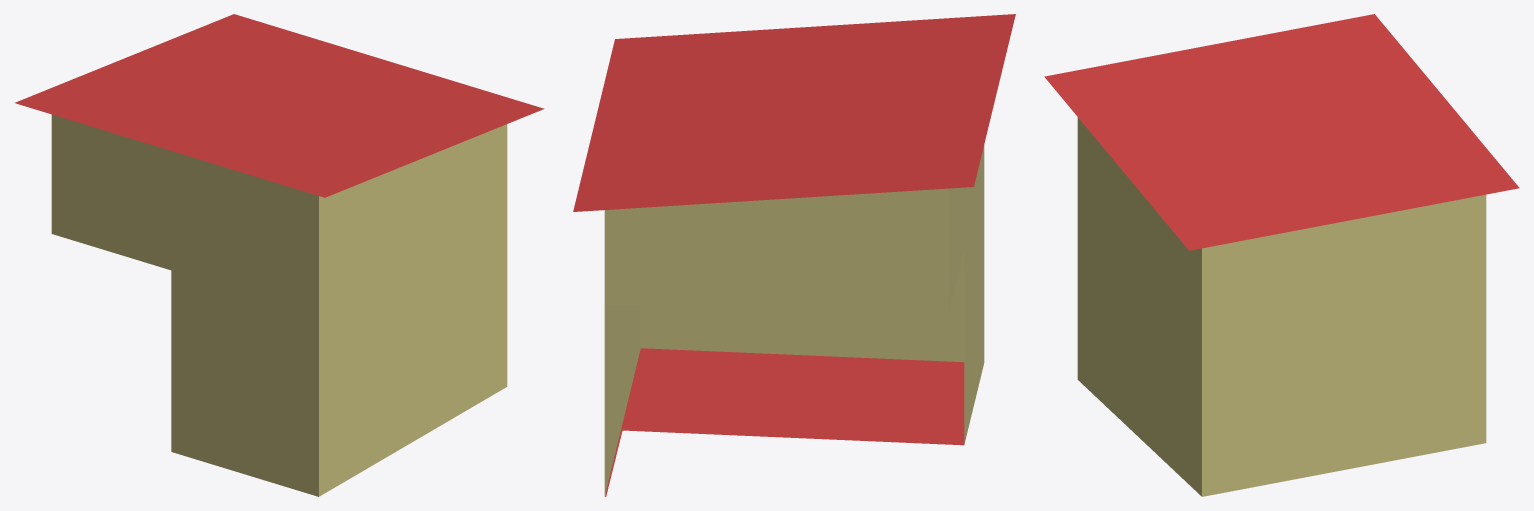
The picture shows the model from 3 angles, left to right: view 1: azimuth 30°, elevation 25°; view 2: azimuth 150°, elevation 25°; view 3: azimuth 270°, elevation 25°; orthographic projection. The views are drawn at different scales.
Size of the model in its own units: 13.92 by 14.03 by 9.69.
